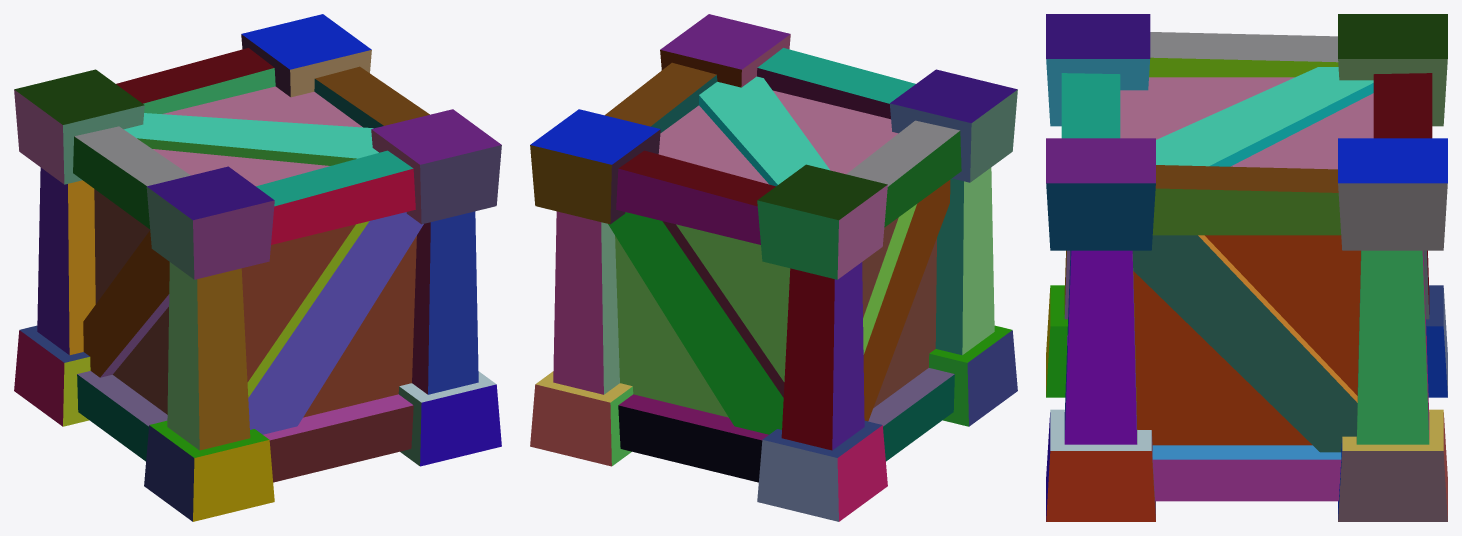
The model's file is DemoCrate1_NonExploded.fbx.
3 views of the same model, side by side, from view 1: azimuth 30°, elevation 25°; view 2: azimuth 150°, elevation 25°; view 3: azimuth 270°, elevation 25° (orthographic). The views are drawn at different scales.
Visible parts, largest first — view 1: DemoCrate1_Collapsed_AutoUV; view 2: DemoCrate1_Collapsed_AutoUV; view 3: DemoCrate1_Collapsed_AutoUV.
Boxes of the visible parts, x1,y1,x2,y2 form: DemoCrate1_Collapsed_AutoUV: [14, 14, 501, 521]; DemoCrate1_Collapsed_AutoUV: [530, 14, 1017, 521]; DemoCrate1_Collapsed_AutoUV: [1046, 14, 1447, 521].
Size of the model in its own units: 261 by 244 by 262.
